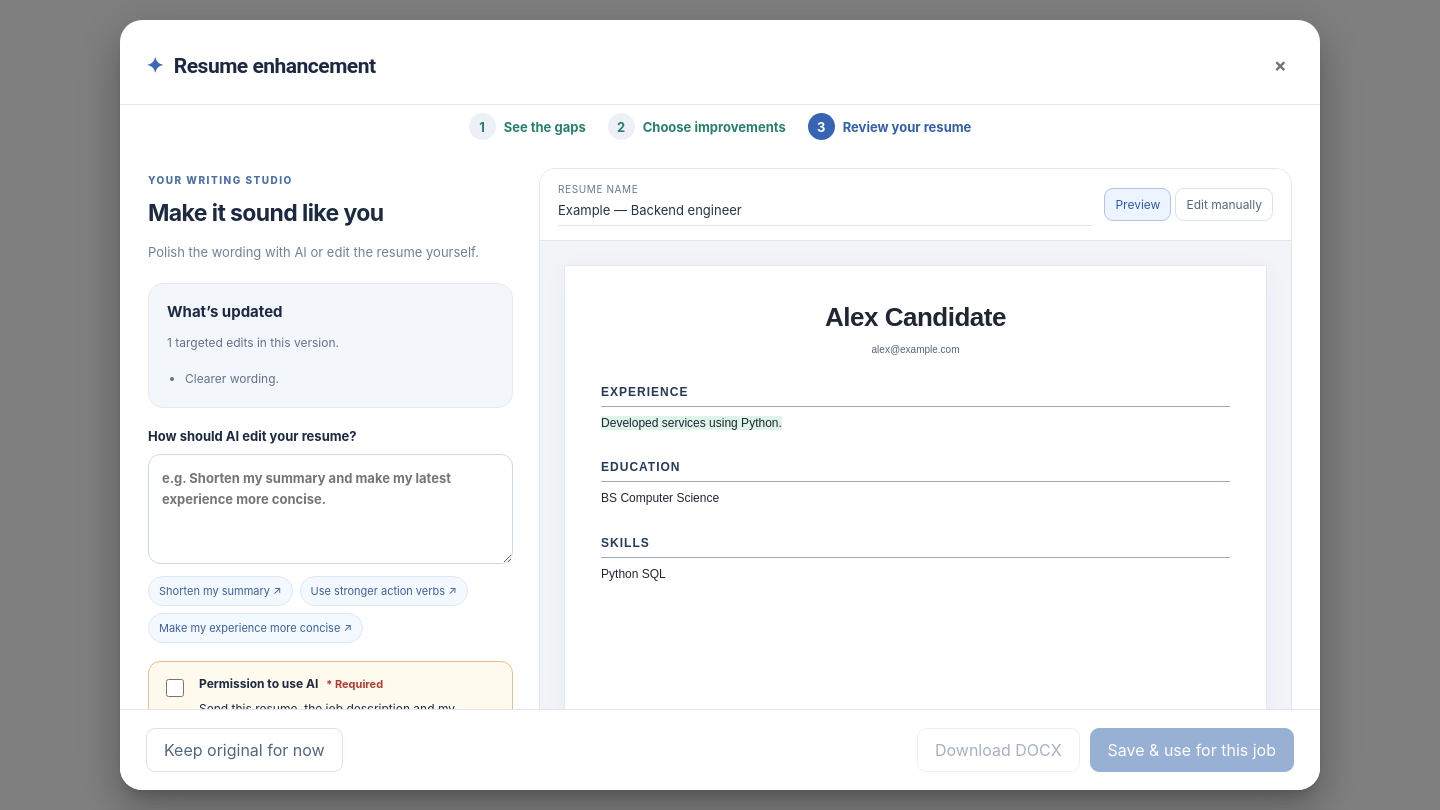
Test: AI edits and regeneration create a new version and can restore the previous one (false)
Click the checkbox labelled "Send this resume" at (175,688), box [166,679,184,697]
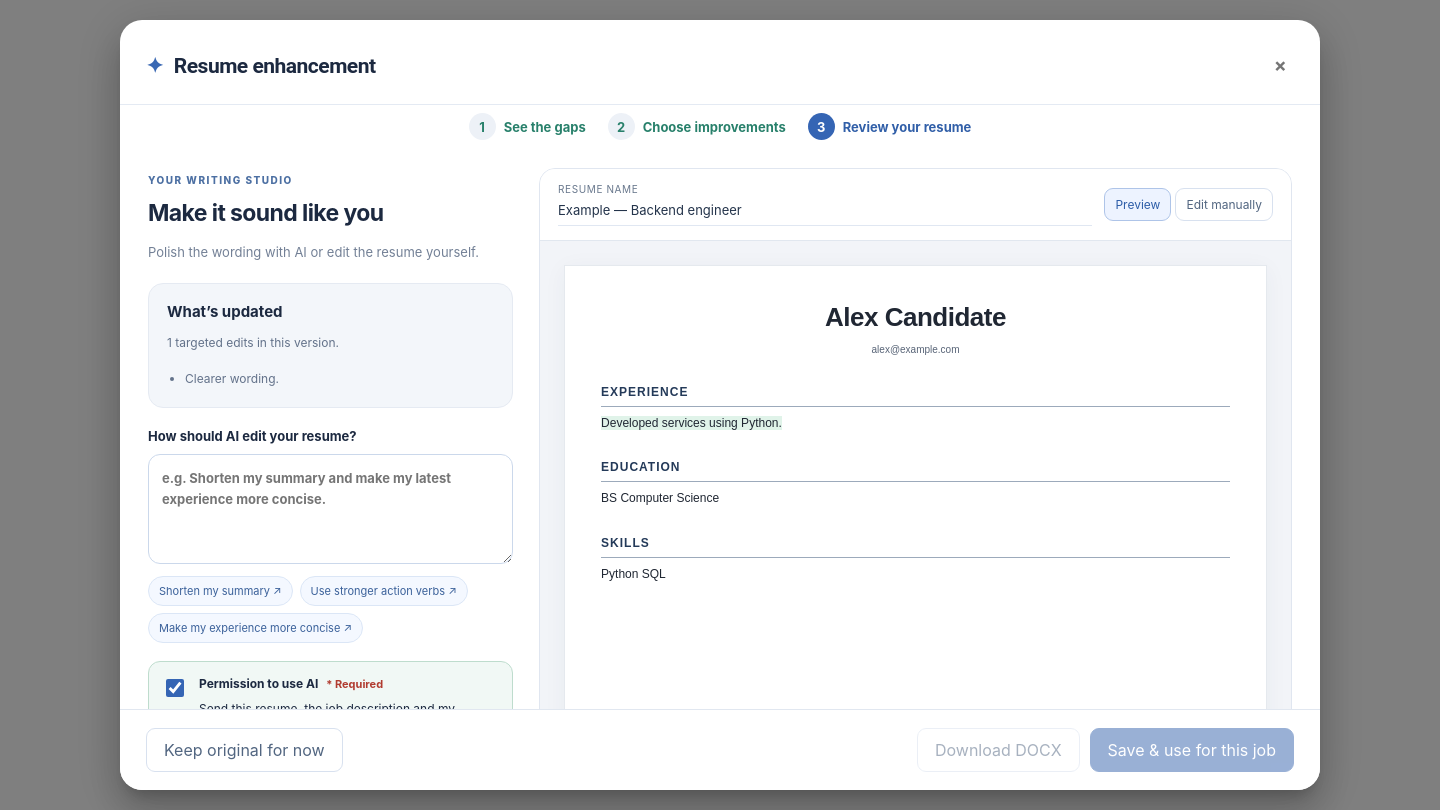
Replace the text in the text box labelled "How should AI edit your resume?" with "Shorten my summary" at (330,509), box [148,454,513,564]
(page scrolled)
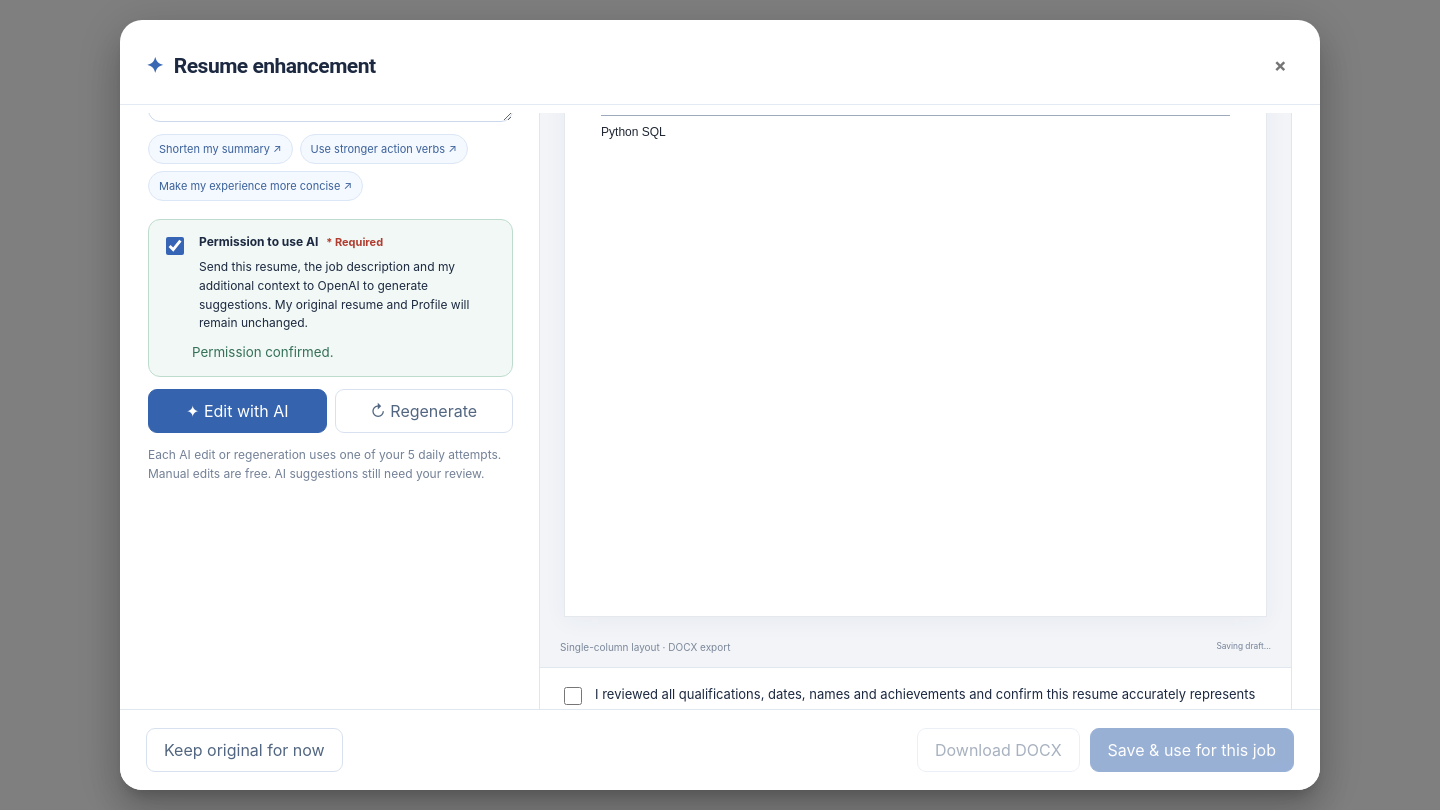
Click the button "✦ Edit with AI" at (237,411), box [148,389,326,433]
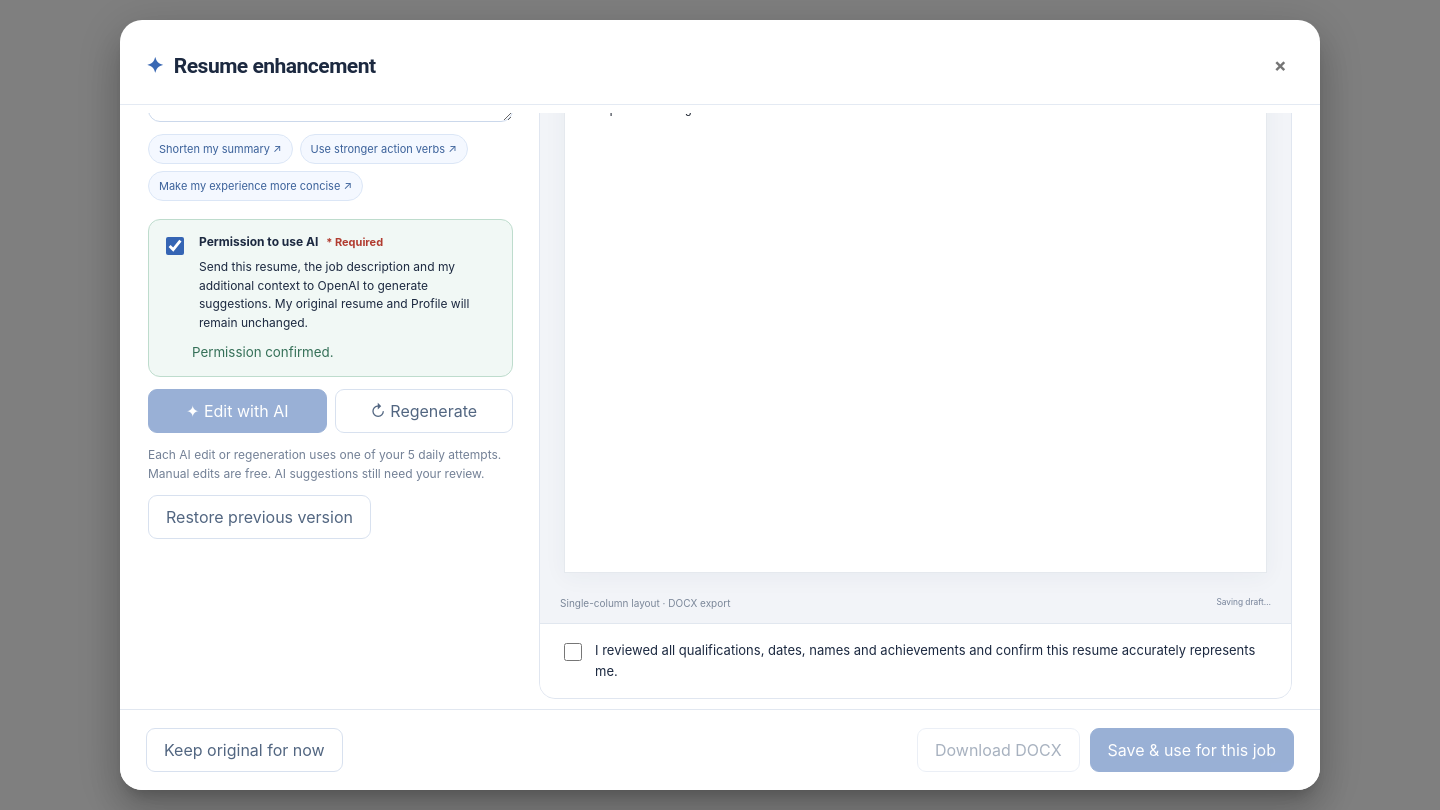
Click the button "Restore previous version" at (259,517), box [148,495,371,539]
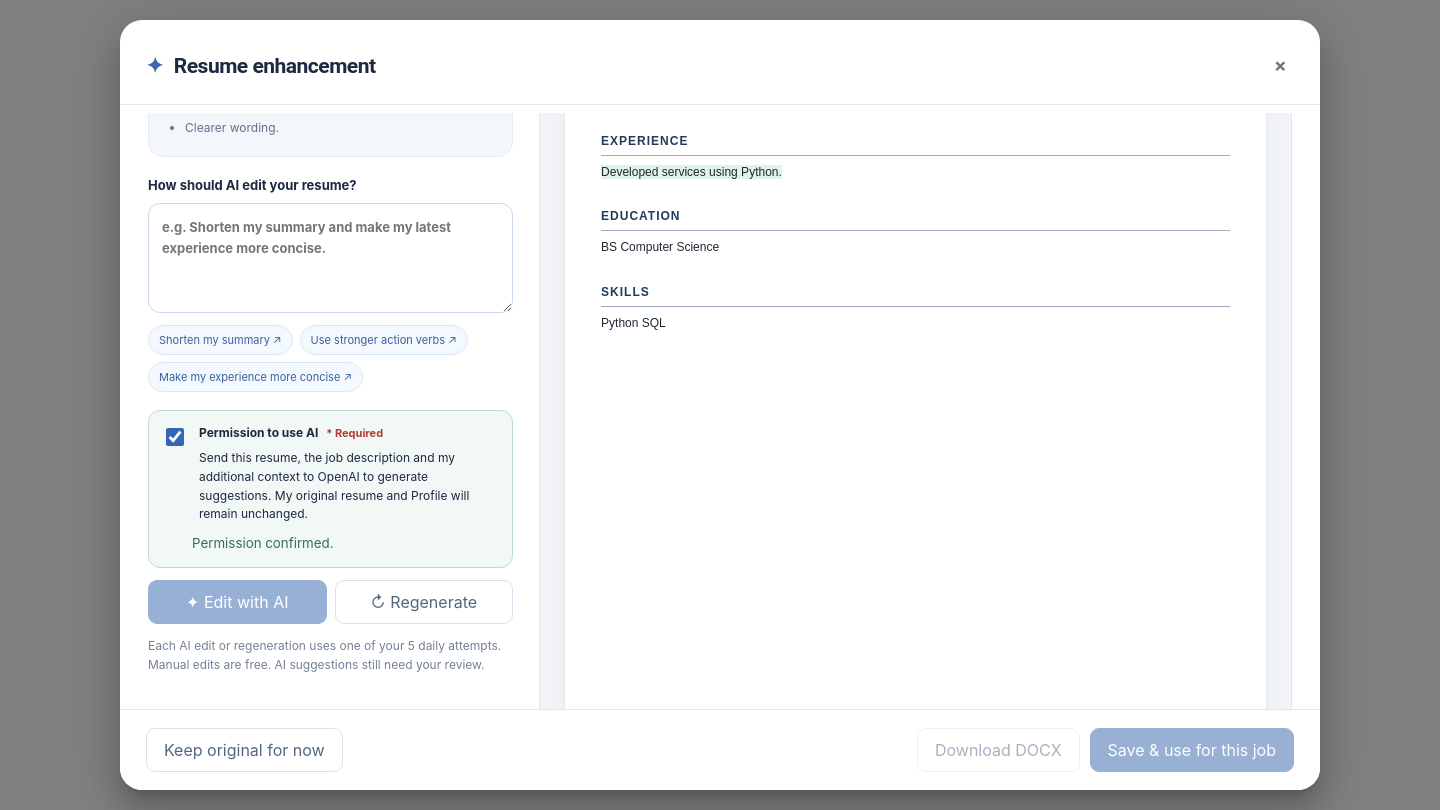
Now the element named "Resume preview" no longer shows "Updated wording.", box [564,113,1267,709]
